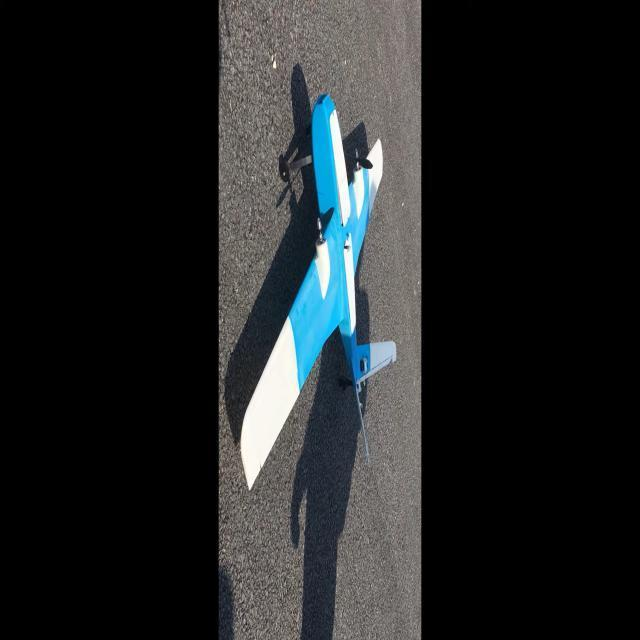UAV: (232, 76, 391, 494)
